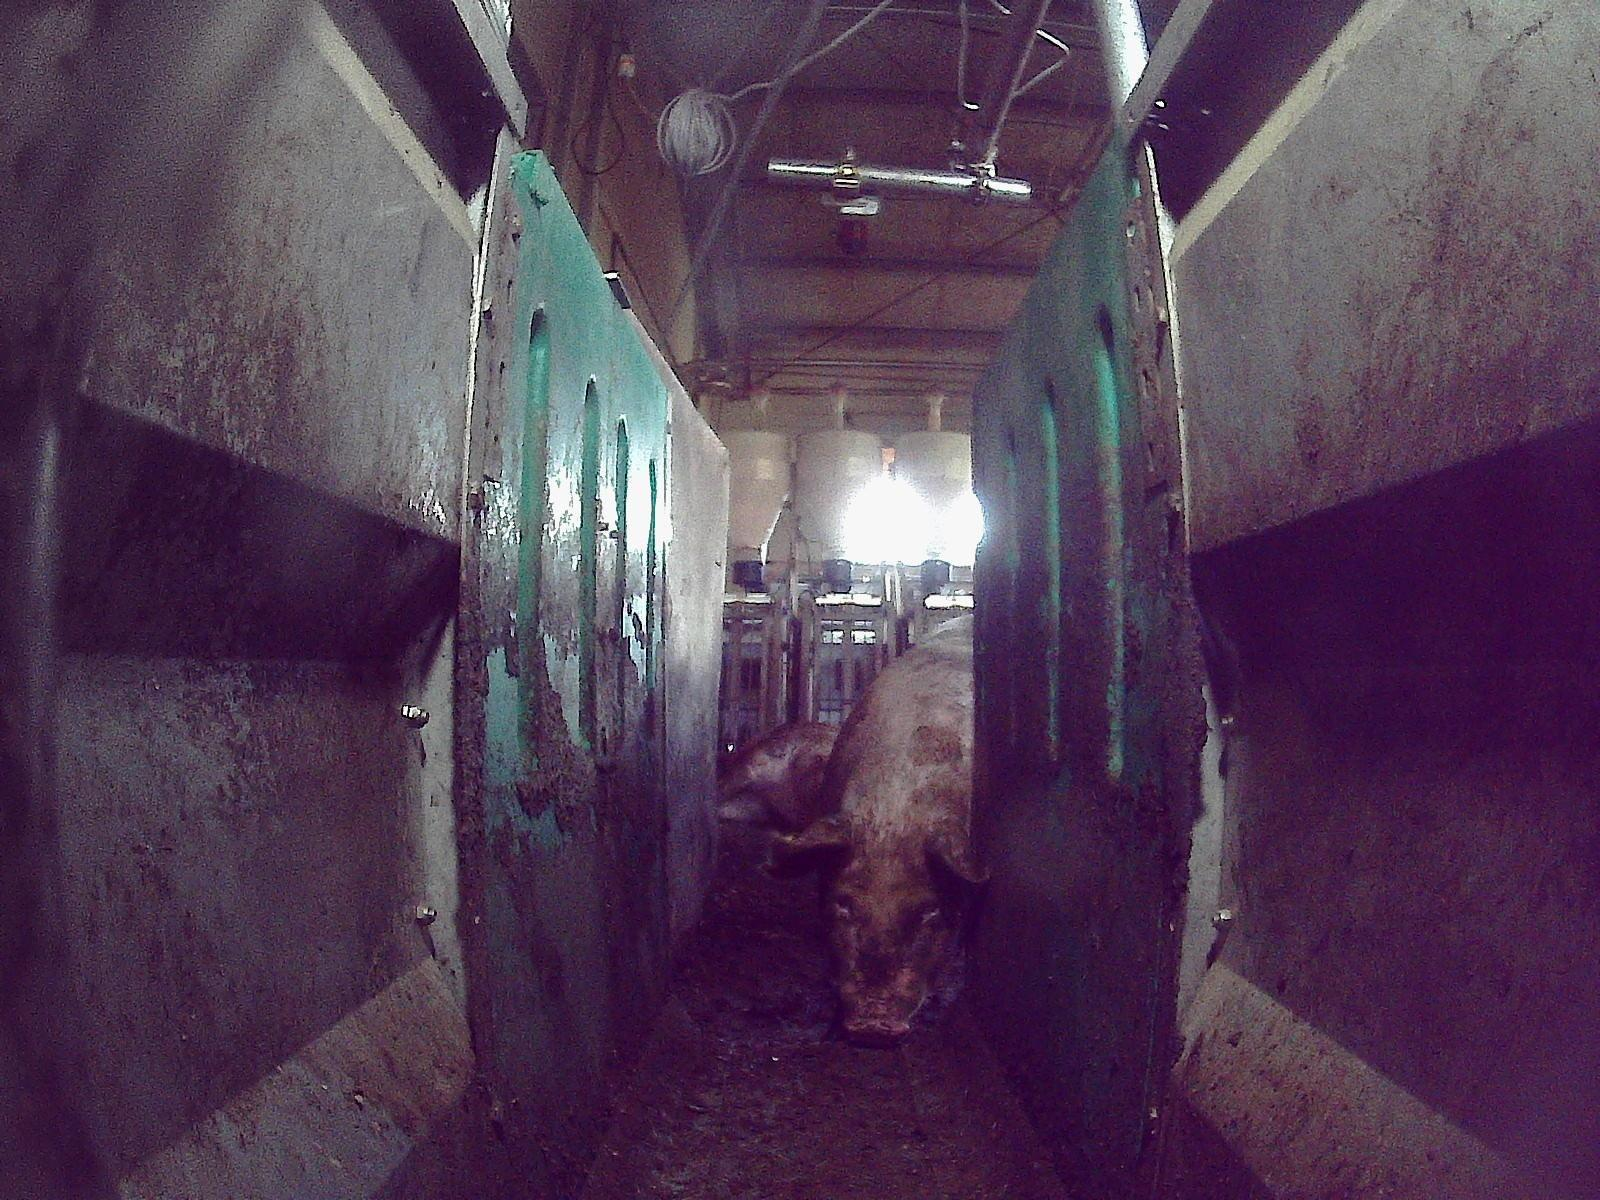Face: (823, 818, 960, 1043)
